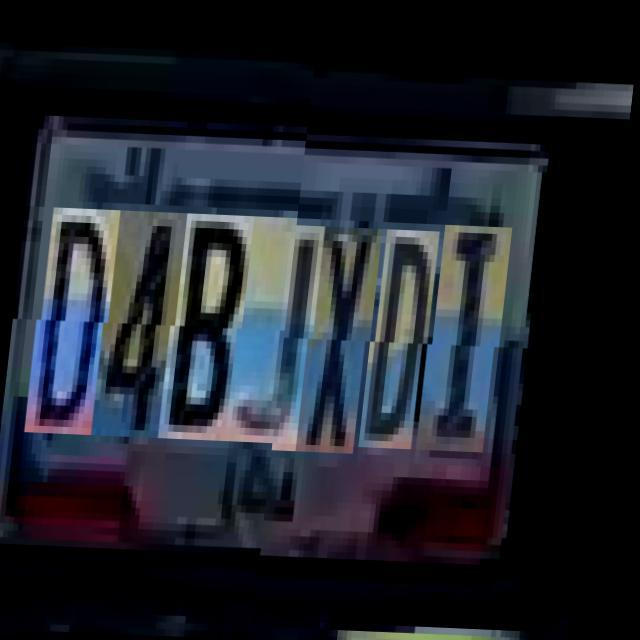4: (105, 216, 192, 443)
B: (172, 218, 258, 446)
D: (38, 214, 125, 441), (373, 225, 445, 446)
I: (430, 220, 518, 448)
J: (239, 221, 330, 448)
X: (310, 223, 388, 450)
